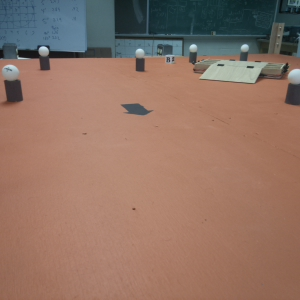obstacle: (2, 62, 26, 106), (37, 44, 53, 71), (134, 48, 146, 73), (188, 41, 199, 59), (240, 43, 249, 59)
side: (266, 60, 288, 80), (193, 61, 206, 72)
slope: (213, 63, 260, 84)
